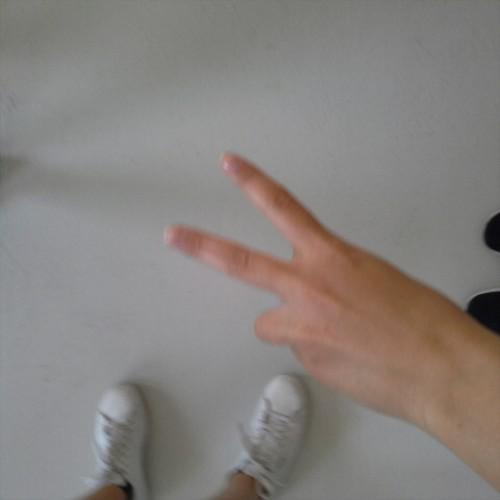scissors: (147, 136, 491, 471)
